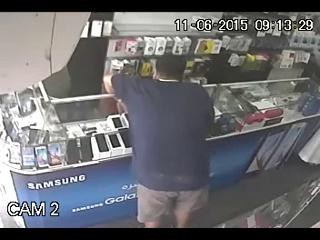shoplifting: (104, 54, 215, 227)
